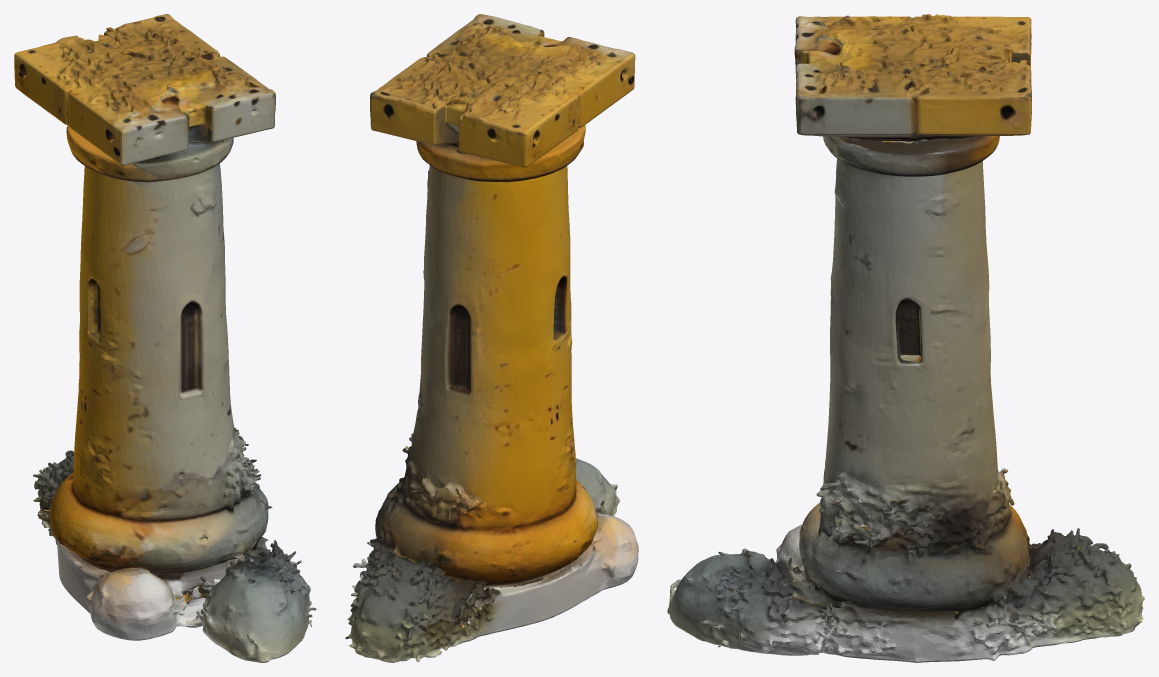
File: weathered-monolith-pillar-generated-2026-04-18t22-01-36-007z-texture-wrap-2026-04-18t23-14-30-195z-generated-2026-04-19T00-10-22-410Z.glb
The picture shows the model from 3 angles, left to right: view 1: azimuth 30°, elevation 25°; view 2: azimuth 150°, elevation 25°; view 3: azimuth 270°, elevation 25°; orthographic projection. The views are drawn at different scales.
Parts seen in each view (by area): view 1: temp_mesh.ply; view 2: temp_mesh.ply; view 3: temp_mesh.ply.
Boxes of the visible parts, x1,y1,x2,y2 form: temp_mesh.ply: (14, 14, 316, 662); temp_mesh.ply: (345, 14, 638, 662); temp_mesh.ply: (667, 14, 1144, 662).
Size of the model in its own units: 0.7715 by 1.97 by 1.5.
1 material, 1 textured.
